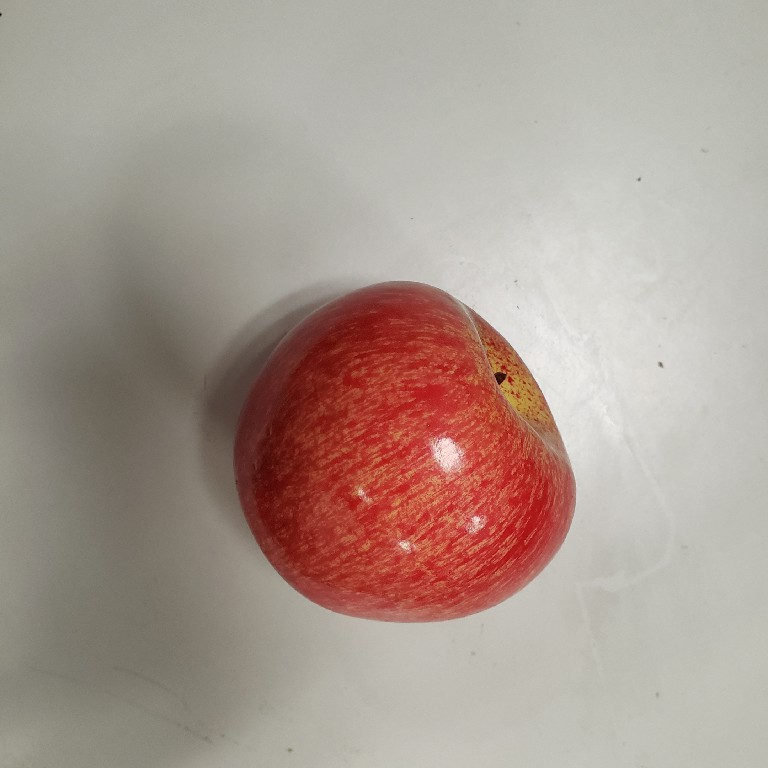fruit_apple: (223, 270, 581, 628)
